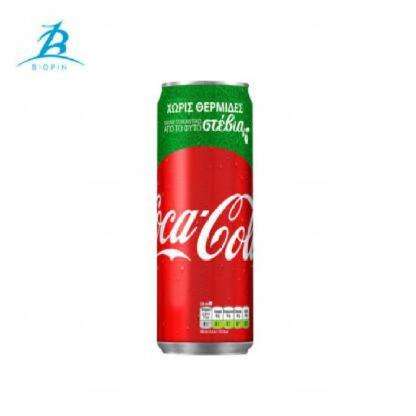Can: (149, 60, 263, 374)
